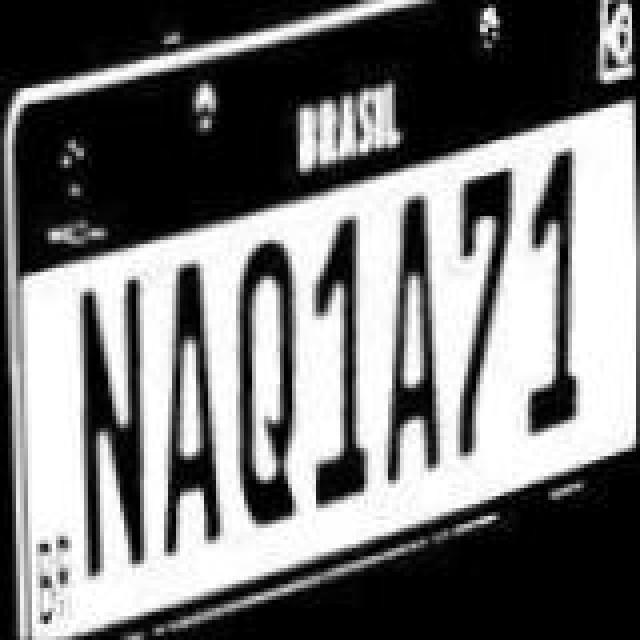1: (516, 144, 600, 440), (296, 210, 376, 514)
7: (440, 168, 524, 464)
A: (150, 248, 234, 556), (376, 190, 452, 486)
N: (68, 270, 160, 578)
Q: (222, 230, 306, 538)
